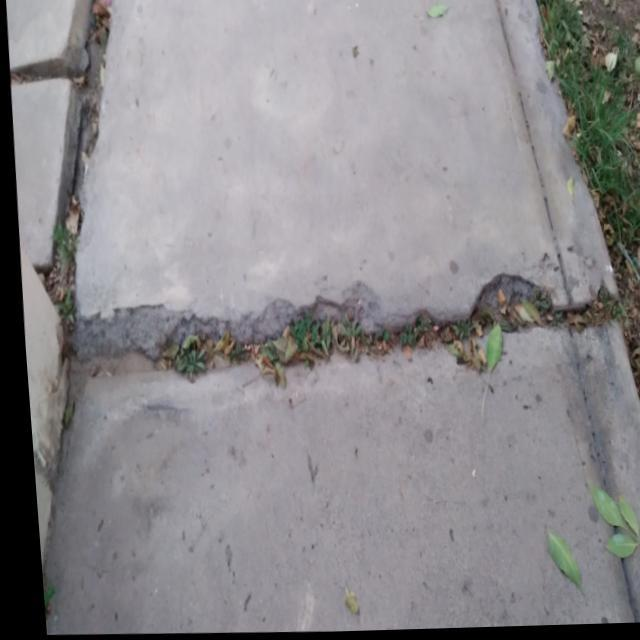hole: (369, 263, 620, 375)
